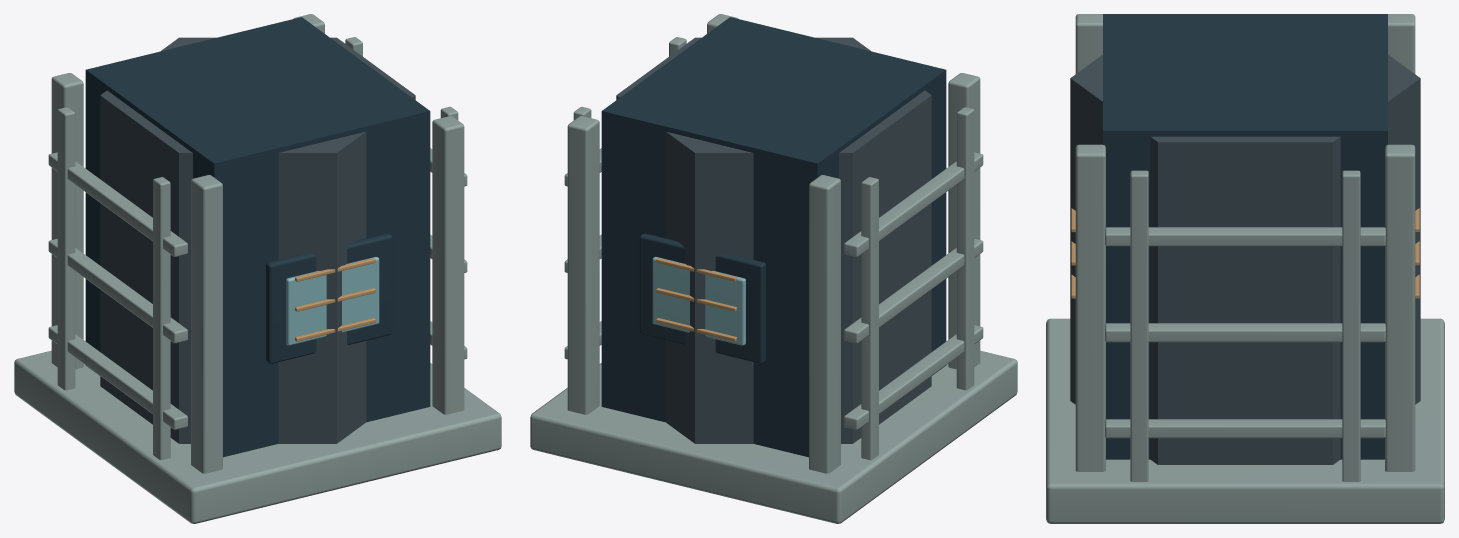
File: receiver-base-0.glb
The picture shows the model from 3 angles, left to right: view 1: azimuth 30°, elevation 25°; view 2: azimuth 150°, elevation 25°; view 3: azimuth 270°, elevation 25°; orthographic projection. The views are drawn at different scales.
Visible parts, largest first — view 1: receiver_2, receiver_1, receiver_0, receiver_4, receiver_3; view 2: receiver_2, receiver_1, receiver_0, receiver_4, receiver_3; view 3: receiver_1, receiver_0, receiver_2, receiver_3.
Part boxes in pixels (x1,y1,x2,y2): receiver_2: [85, 17, 430, 457]; receiver_1: [14, 14, 501, 523]; receiver_0: [100, 37, 415, 443]; receiver_4: [286, 257, 379, 345]; receiver_3: [295, 258, 375, 341]; receiver_2: [601, 17, 946, 457]; receiver_1: [530, 14, 1017, 523]; receiver_0: [616, 37, 931, 443]; receiver_4: [652, 257, 745, 345]; receiver_3: [656, 258, 736, 341]; receiver_1: [1046, 14, 1444, 523]; receiver_0: [1070, 54, 1420, 464]; receiver_2: [1103, 14, 1387, 459]; receiver_3: [1071, 208, 1419, 298].
Size of the model in its own units: 0.98 by 1 by 0.98.
